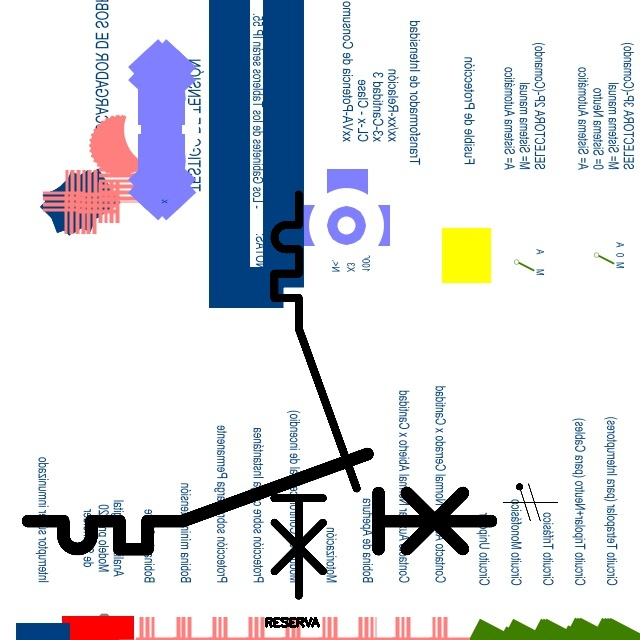interruptor_termomagnetico: (16, 442, 503, 561), (264, 184, 367, 606)
